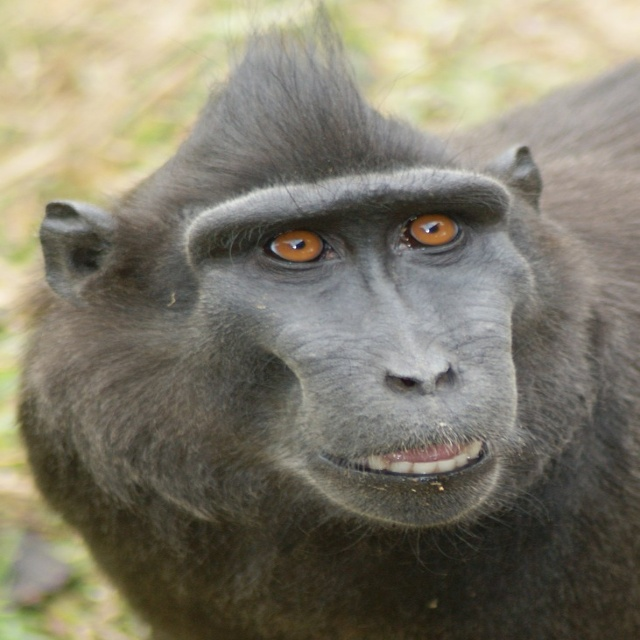Monkey: (12, 9, 638, 638)
